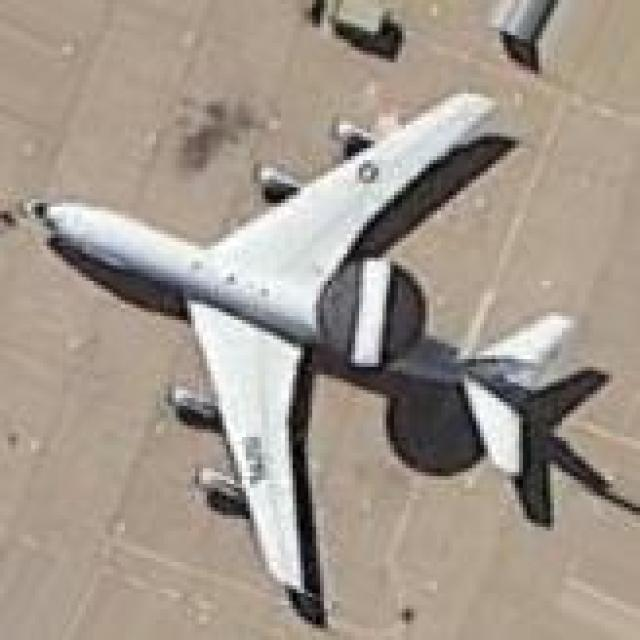E-3_TopDown: (16, 82, 636, 624)
